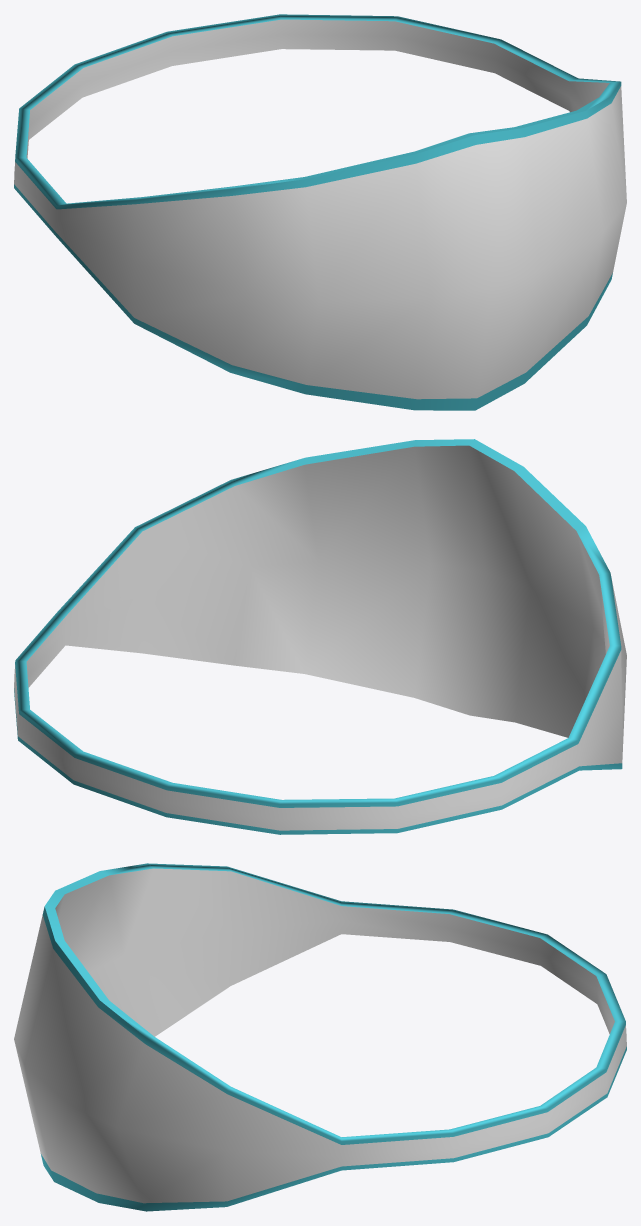
File: mask.fbx
3 views of the same model, one above another, from view 1: azimuth 30°, elevation 25°; view 2: azimuth 150°, elevation 25°; view 3: azimuth 270°, elevation 25° (orthographic). The views are drawn at different scales.
Visible parts, largest first — view 1: mask; view 2: mask; view 3: mask.
Part boxes in pixels (x1=…): mask: x1=14, y1=14, x2=626, y2=410; mask: x1=14, y1=439, x2=626, y2=834; mask: x1=14, y1=863, x2=626, y2=1211.
Bounding box in the file's own units: 110 × 55.32 × 118.
